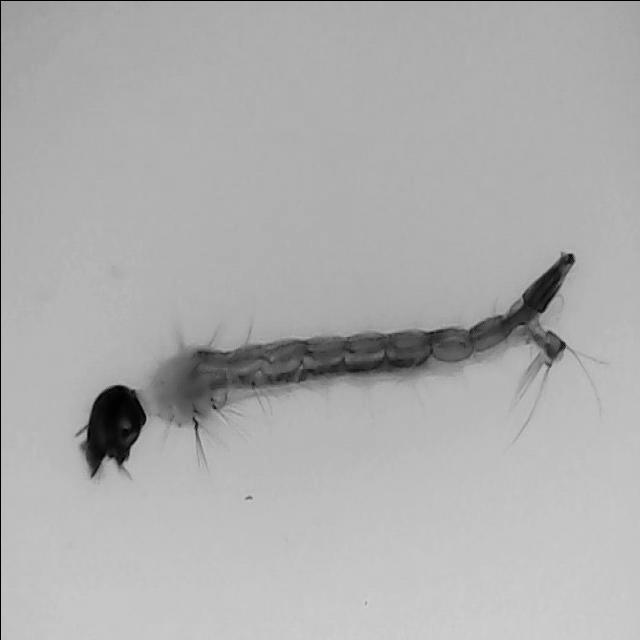larvas: (82, 257, 575, 470)
